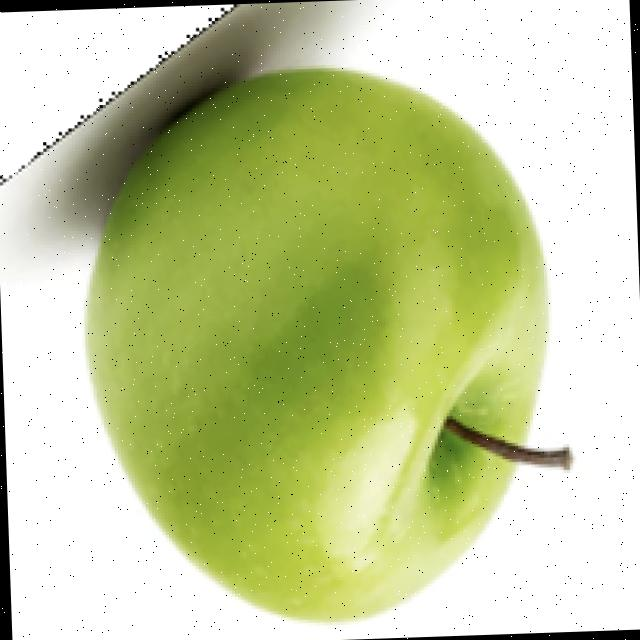apple: (0, 4, 578, 628)
